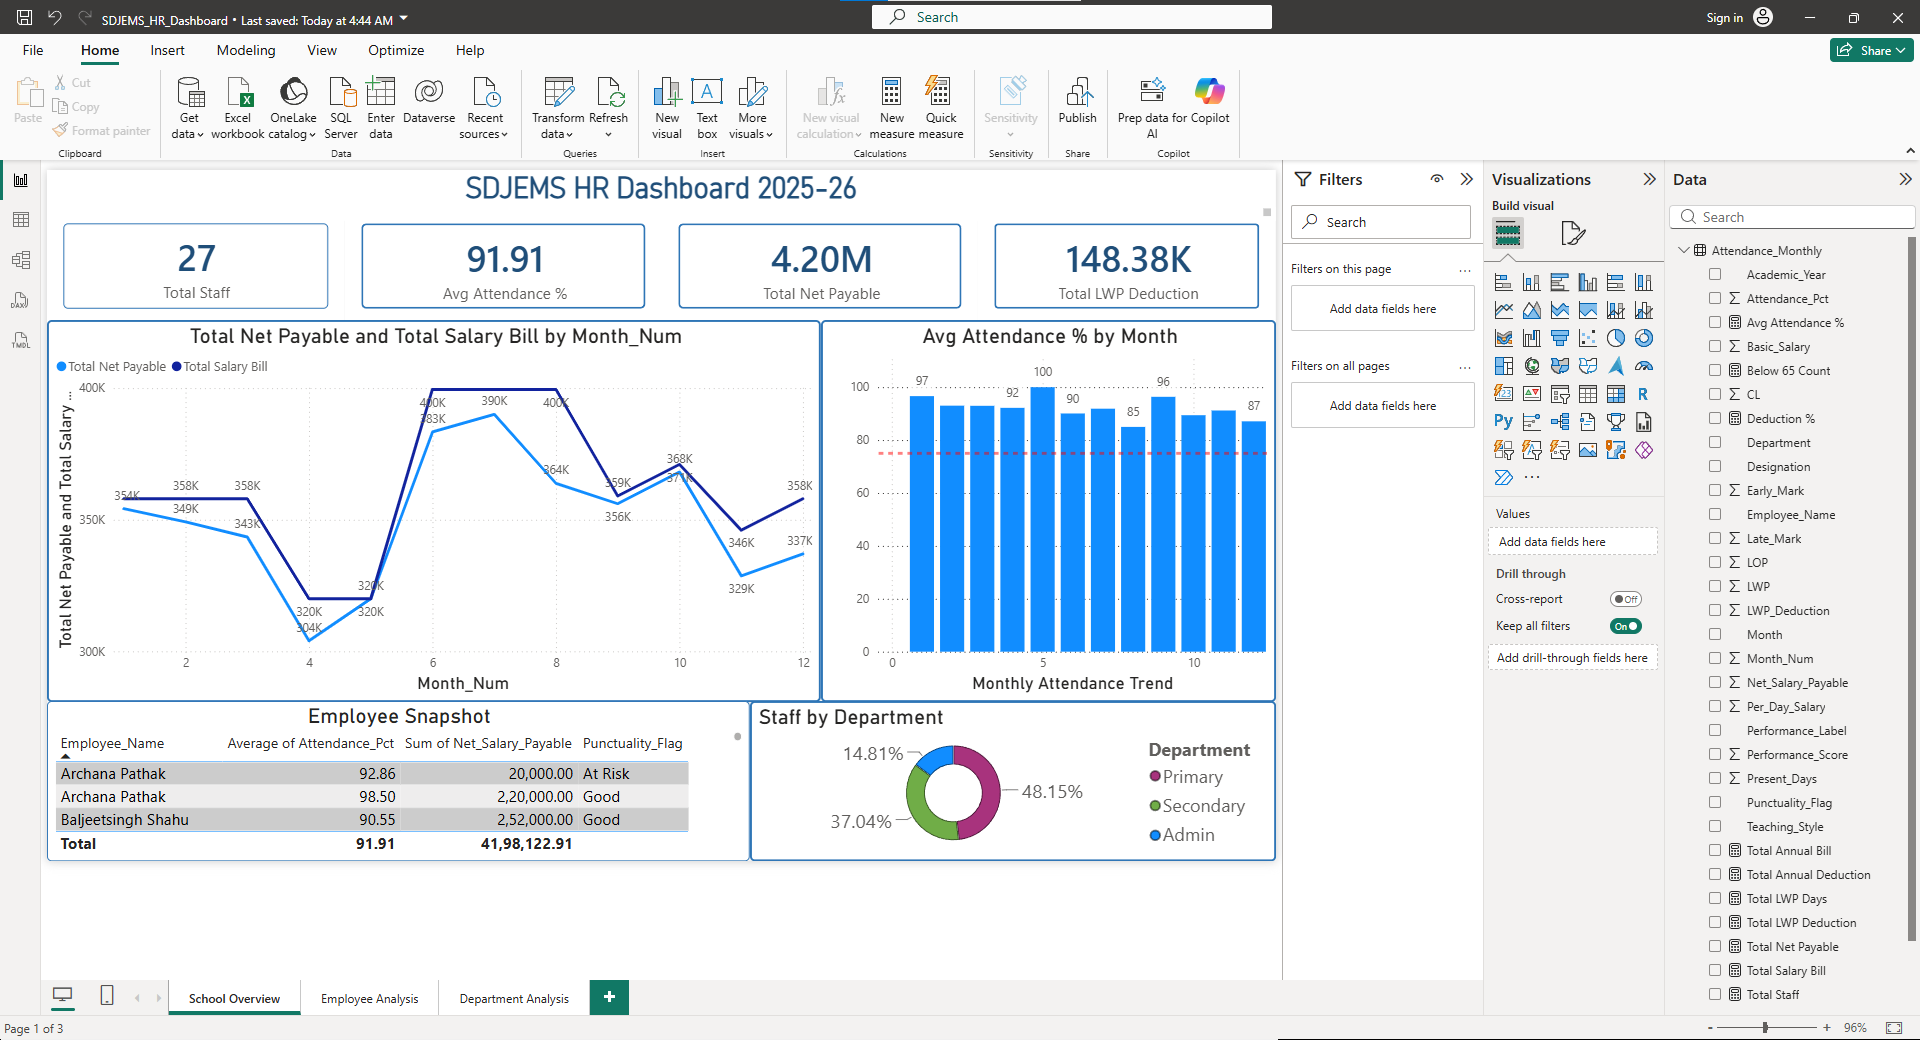

The dashboard page shown, as its layout file describes it:
{"tool":"powerbi","page":{"name":"School Overview","canvas":[1280,720],"ordinal":0},"visuals":[{"type":"cardVisual","fields":{"Data":["Attendance_Monthly.Avg Attendance %"]},"box":[310,38,330.9,123.6],"z":0},{"type":"cardVisual","fields":{"Data":["Attendance_Monthly.Total Net Payable"]},"box":[641,38,329,123.6],"z":1000},{"type":"cardVisual","fields":{"Data":["Attendance_Monthly.Total LWP Deduction"]},"box":[970,38,310,123.6],"z":2000},{"type":"cardVisual","fields":{"Data":["Attendance_Monthly.Total Staff"]},"box":[0,38,310,123.6],"z":3000},{"type":"lineChart","fields":{"Y":["Attendance_Monthly.Total Net Payable","Attendance_Monthly.Total Salary Bill"],"Category":["Attendance_Monthly.Month_Num"]},"box":[0,156,806.4,397.5],"z":4000},{"type":"lineClusteredColumnComboChart","title":"Avg Attendance % by Month","fields":{"Y":["Attendance_Monthly.Avg Attendance %"],"Category":["Attendance_Monthly.Month_Num"]},"box":[806.4,156,473.6,397.5],"z":5000},{"type":"donutChart","title":"Staff by Department","fields":{"Category":["Attendance_Monthly.Department"],"Y":["Attendance_Monthly.Total Staff"]},"box":[732.2,553.5,547.8,167.4],"z":6000},{"type":"tableEx","title":"Employee Snapshot","fields":{"Values":["Attendance_Monthly.Employee_Name","Avg(Attendance_Monthly.Attendance_Pct)","Sum(Attendance_Monthly.Net_Salary_Payable)","Attendance_Monthly.Punctuality_Flag"]},"box":[0,553.5,732.2,167.4],"z":7000},{"type":"textbox","title":"SDJEMS HR Dashboard 2025-26","box":[0,0,1280,53.3],"z":8000}]}

Visuals, with their boxes on the page's 1280x720 design canvas (x1, y1, x2, y2). These are canvas units, not pixel positions in the 1920x1040 screenshot, which may show the page scaled, cropped or inside an application window:
cardVisual - Attendance_Monthly.Avg Attendance %: left=310, top=38, right=641, bottom=162
cardVisual - Attendance_Monthly.Total Net Payable: left=641, top=38, right=970, bottom=162
cardVisual - Attendance_Monthly.Total LWP Deduction: left=970, top=38, right=1280, bottom=162
cardVisual - Attendance_Monthly.Total Staff: left=0, top=38, right=310, bottom=162
lineChart - Attendance_Monthly.Total Net Payable x Attendance_Monthly.Total Salary Bill: left=0, top=156, right=806, bottom=554
"Avg Attendance % by Month" lineClusteredColumnComboChart: left=806, top=156, right=1280, bottom=554
"Staff by Department" donutChart: left=732, top=554, right=1280, bottom=721
"Employee Snapshot" tableEx: left=0, top=554, right=732, bottom=721
"SDJEMS HR Dashboard 2025-26" textbox: left=0, top=0, right=1280, bottom=53
